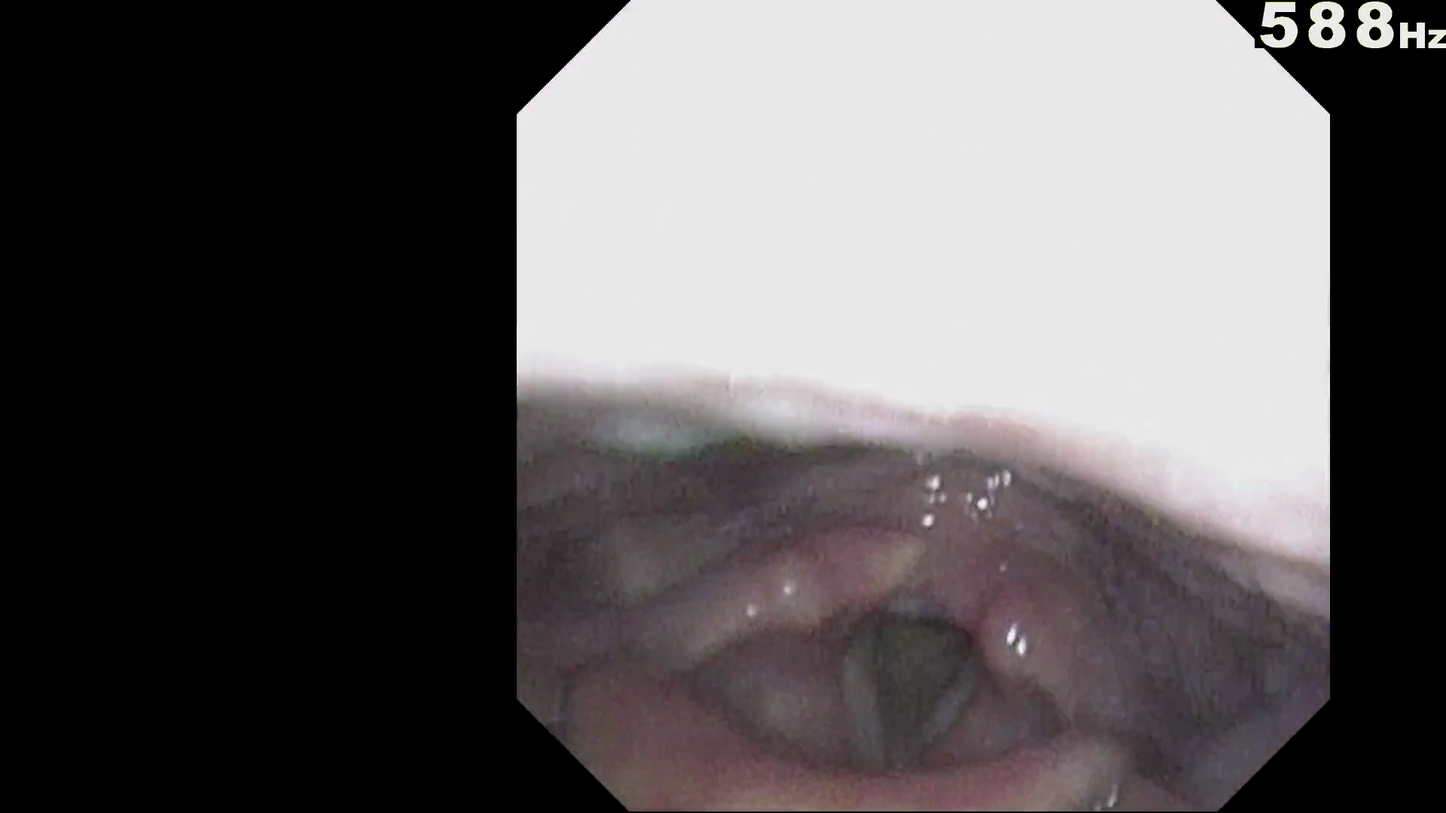epiglottis: (596, 564, 1137, 754)
trachea: (853, 579, 978, 733)
